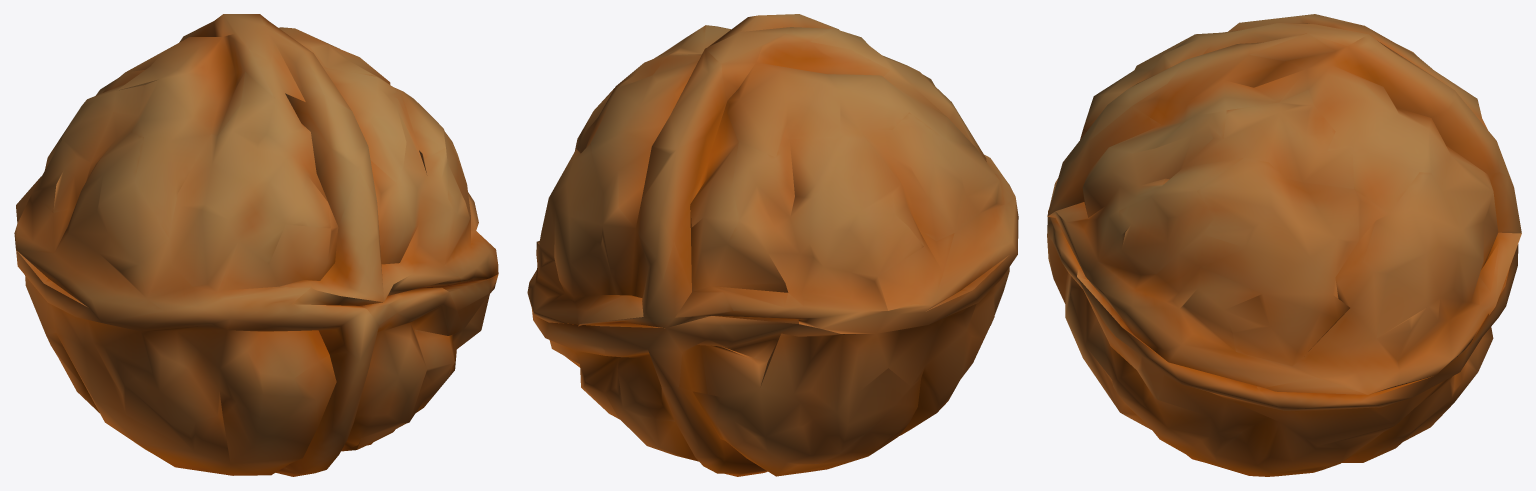
Rendered from Walnut.glb.
3 renders of one model, left to right at view 1: azimuth 30°, elevation 25°; view 2: azimuth 150°, elevation 25°; view 3: azimuth 270°, elevation 25°, orthographic. The views are drawn at different scales.
Visible parts, largest first — view 1: geometry_0; view 2: geometry_0; view 3: geometry_0.
Boxes of the visible parts, box(x1,y1,x2,y2) form: geometry_0: box(14, 14, 498, 476); geometry_0: box(527, 14, 1018, 476); geometry_0: box(1047, 14, 1521, 476).
Bounding box in the file's own units: 17.66 × 17.36 × 17.28.
1 material, 1 textured.
